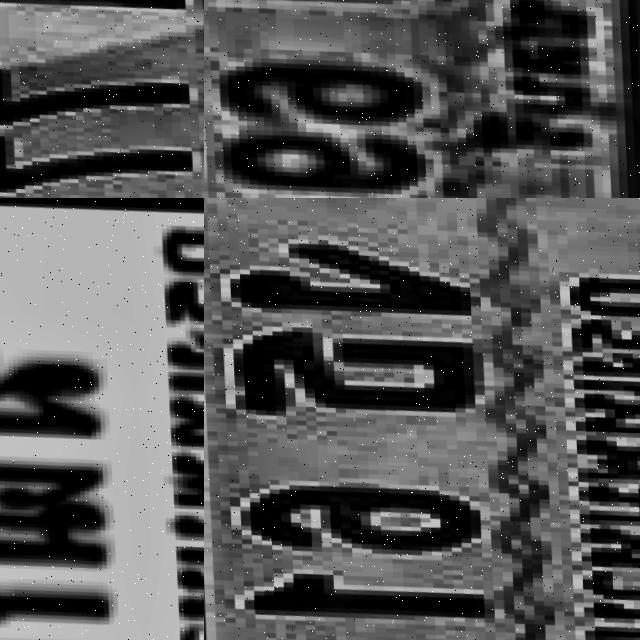license-plate: (204, 198, 640, 640), (0, 198, 204, 640), (204, 0, 640, 198), (0, 0, 204, 198)
